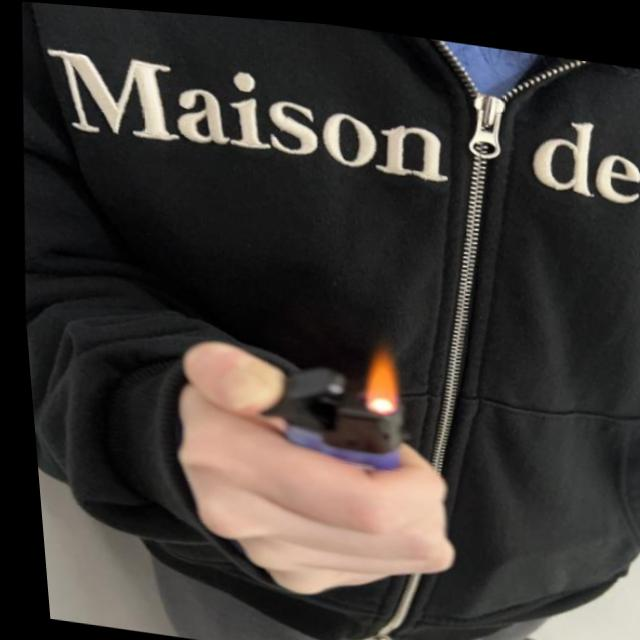Fire: (355, 341, 395, 407)
